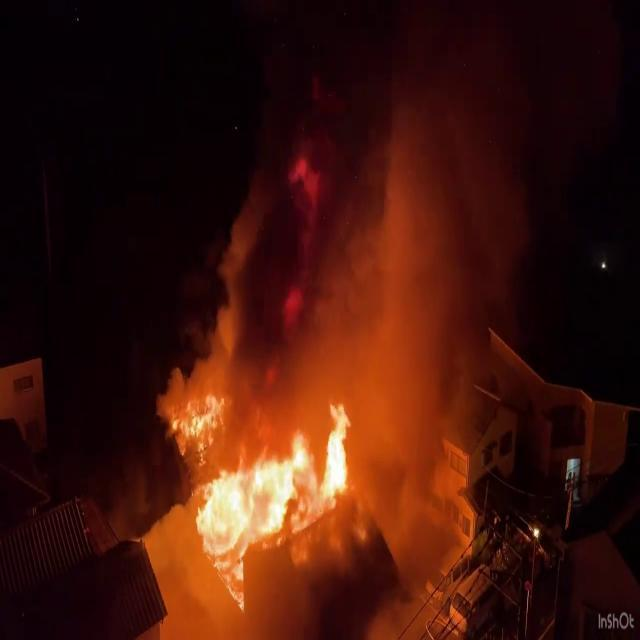Fire: (164, 394, 364, 602)
Smoke: (156, 13, 508, 440)
